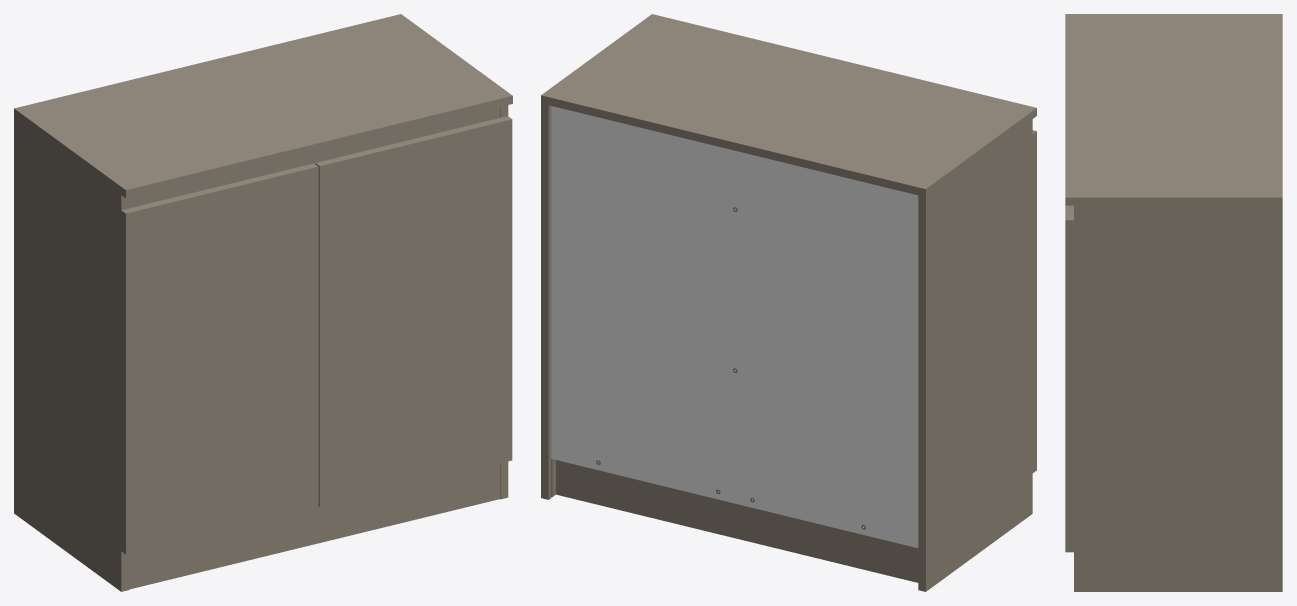
File: NOVA_CK_AMC.glb
3 views of the same model, side by side, from view 1: azimuth 30°, elevation 25°; view 2: azimuth 150°, elevation 25°; view 3: azimuth 270°, elevation 25° (orthographic). The views are drawn at different scales.
Parts seen in each view (by area): view 1: Component_2kapak_1_2, Component_2kapak_1_1, alt__st_2_1, yan_1_1, BAZA_1_1, ara_klapa_2_1; view 2: Group13, alt__st_2_1, yan_1_1, BAZA_1_2, yan_1_2, Component_2kapak_1_2; view 3: yan_1_2, alt__st_2_1, Component_2kapak_1_1.
Part boxes in pixels (x1,y1,x2,y2): Component_2kapak_1_2: (121,163,318,554); Component_2kapak_1_1: (315,116,512,507); alt__st_2_1: (14,14,512,198); yan_1_1: (14,116,128,591); BAZA_1_1: (129,463,500,589); ara_klapa_2_1: (129,107,500,208); Group13: (551,106,918,547); alt__st_2_1: (541,14,1036,197); yan_1_1: (918,119,1032,591); BAZA_1_2: (556,460,918,582); yan_1_2: (541,103,555,499); Component_2kapak_1_2: (1032,130,1036,472); yan_1_2: (1074,205,1282,591); alt__st_2_1: (1065,14,1282,205); Component_2kapak_1_1: (1065,205,1073,552).
Size of the model in its own units: 2.5 by 2.5 by 1.25.
